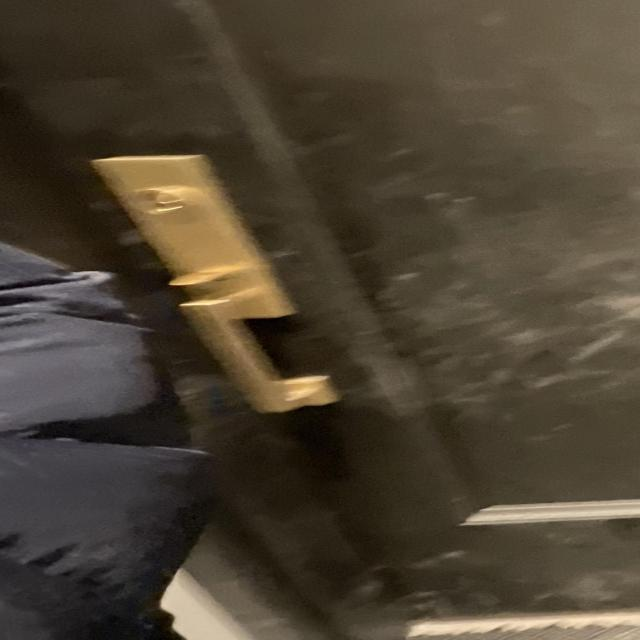door_handle: (169, 289, 341, 422)
